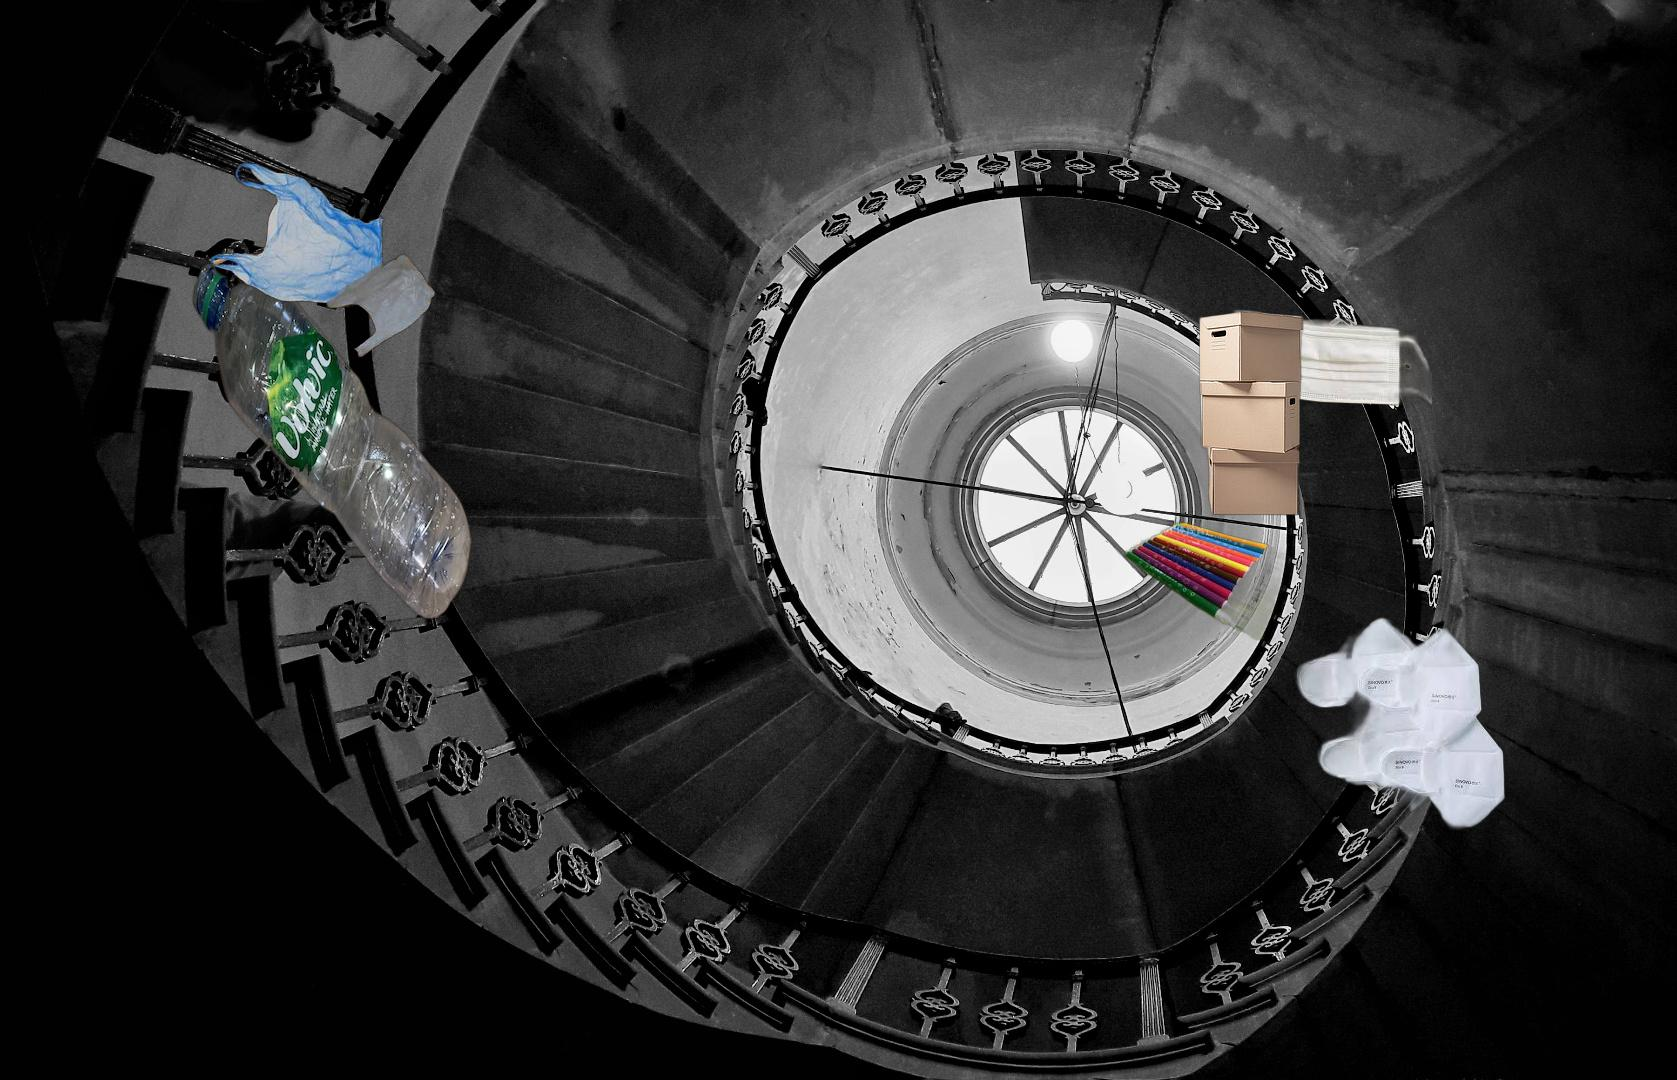penholder: (1125, 520, 1304, 650)
plastic-bag: (205, 159, 438, 360)
plastic-bottles: (189, 255, 478, 623)
trash: (1290, 611, 1514, 836), (1213, 301, 1433, 413)
trashbox-cardboard: (1195, 308, 1305, 518)
